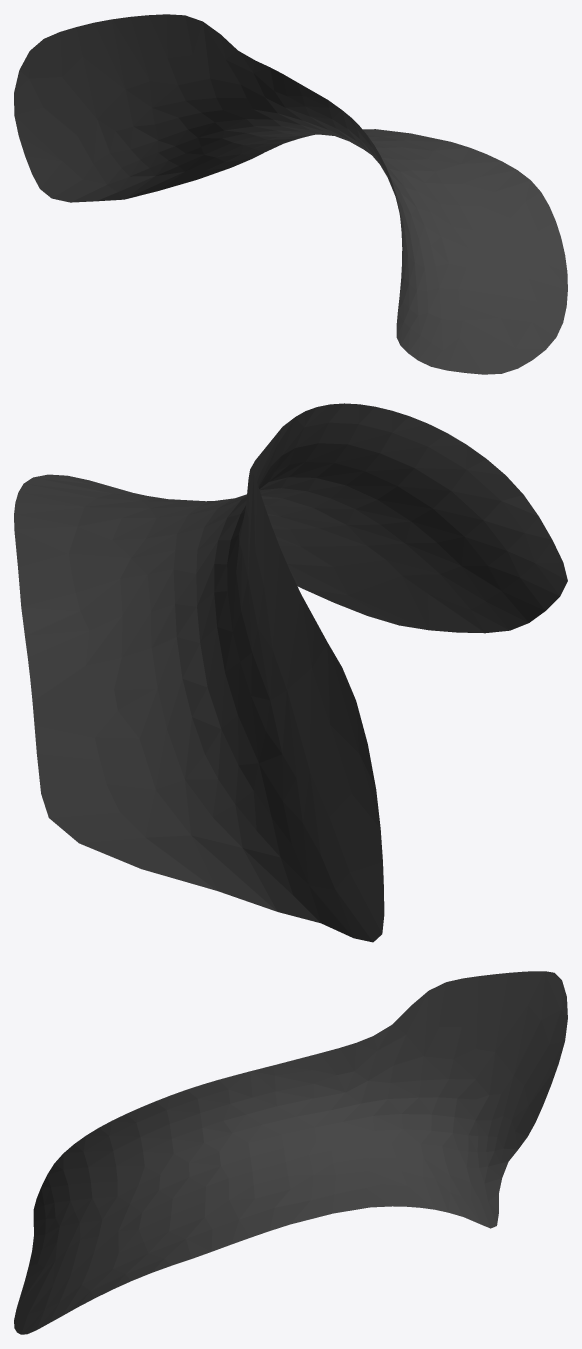
File: Ulna_notch_trochlea.glb
3 renders of one model, top to bottom at view 1: azimuth 30°, elevation 25°; view 2: azimuth 150°, elevation 25°; view 3: azimuth 270°, elevation 25°, orthographic. The views are drawn at different scales.
Parts seen in each view (by area): view 1: Ulna_notch_trochlea; view 2: Ulna_notch_trochlea; view 3: Ulna_notch_trochlea.
Part boxes in pixels (left/top/right/bottom): Ulna_notch_trochlea: left=14, top=14, right=567, bottom=374; Ulna_notch_trochlea: left=14, top=403, right=567, bottom=942; Ulna_notch_trochlea: left=14, top=971, right=567, bottom=1334.
Size of the model in its own units: 0.181 by 0.1216 by 0.2242.
1 material, 1 textured.
